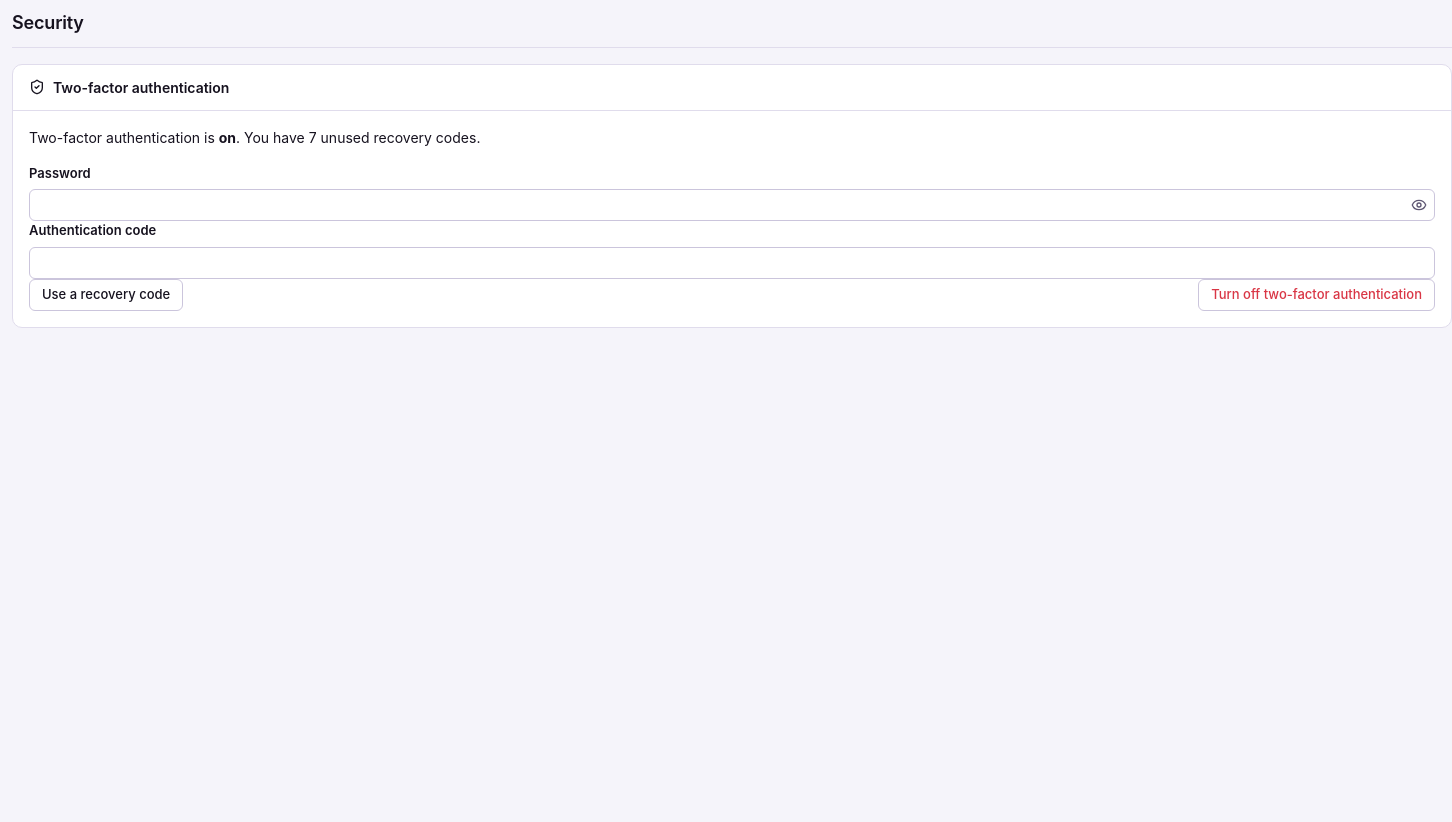
Scenario: SecurityPage › disattiva con password e codice
The image size is (1452, 822).
Expected: the text "7 unused recovery codes" is shown, [29, 128, 480, 146]
Type "la mia password" into the password field labelled "Password" at (732, 205), box [29, 189, 1435, 221]
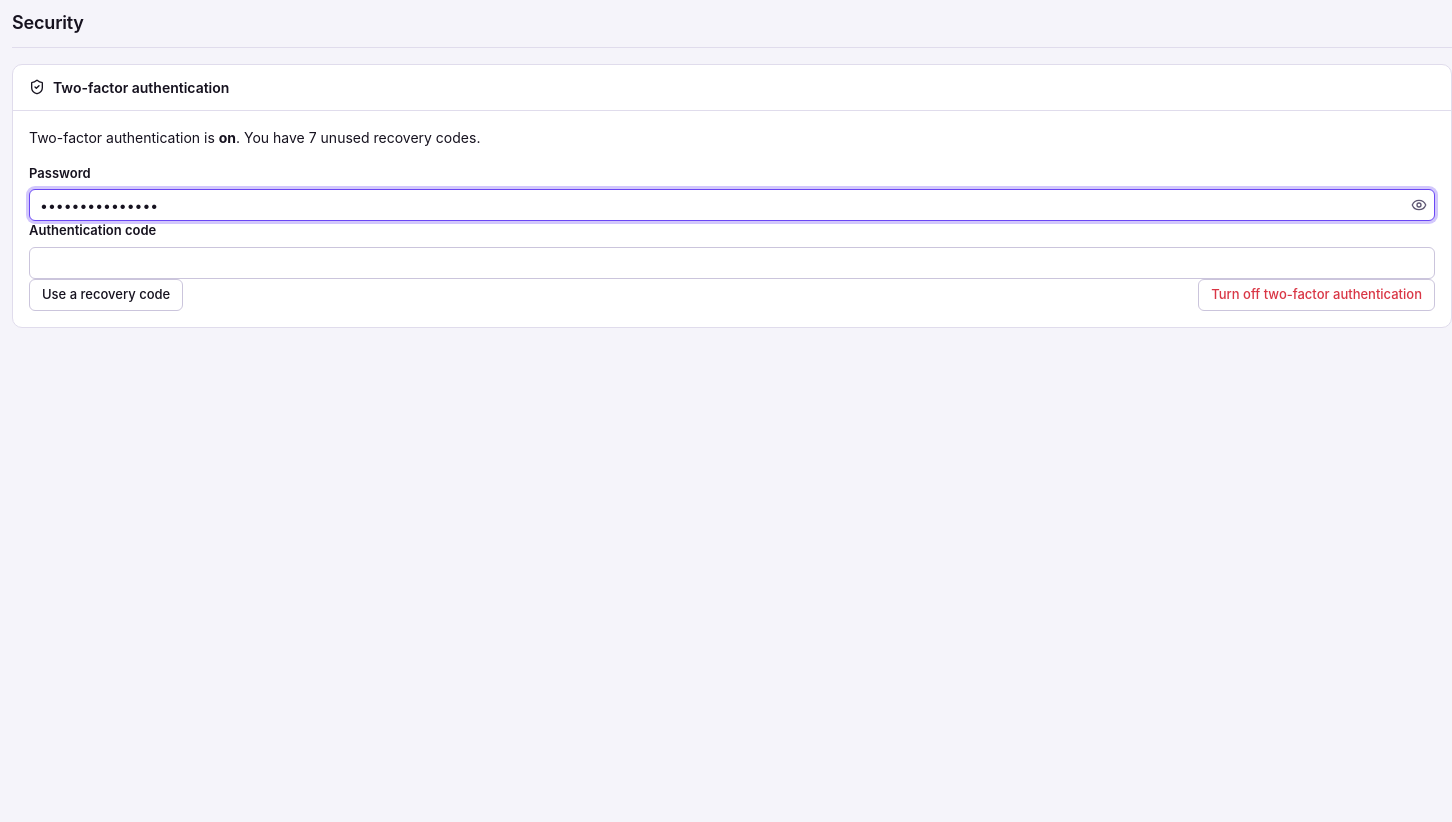
Type "654 321" into the field labelled "Authentication code" at (732, 262), box [29, 246, 1435, 278]
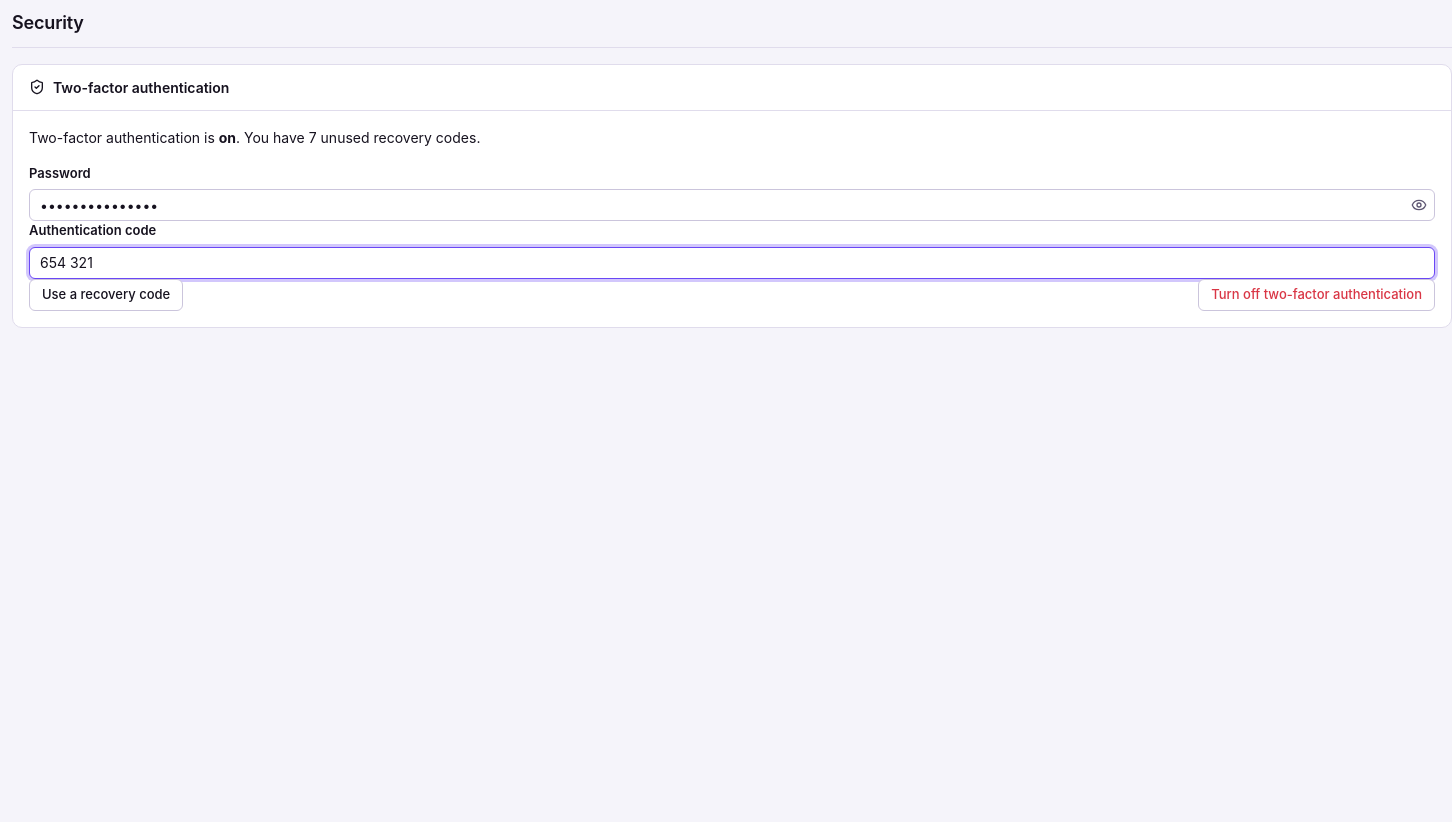
Click the button "Turn off two-factor authentication" at (1317, 294), box [1198, 278, 1435, 310]
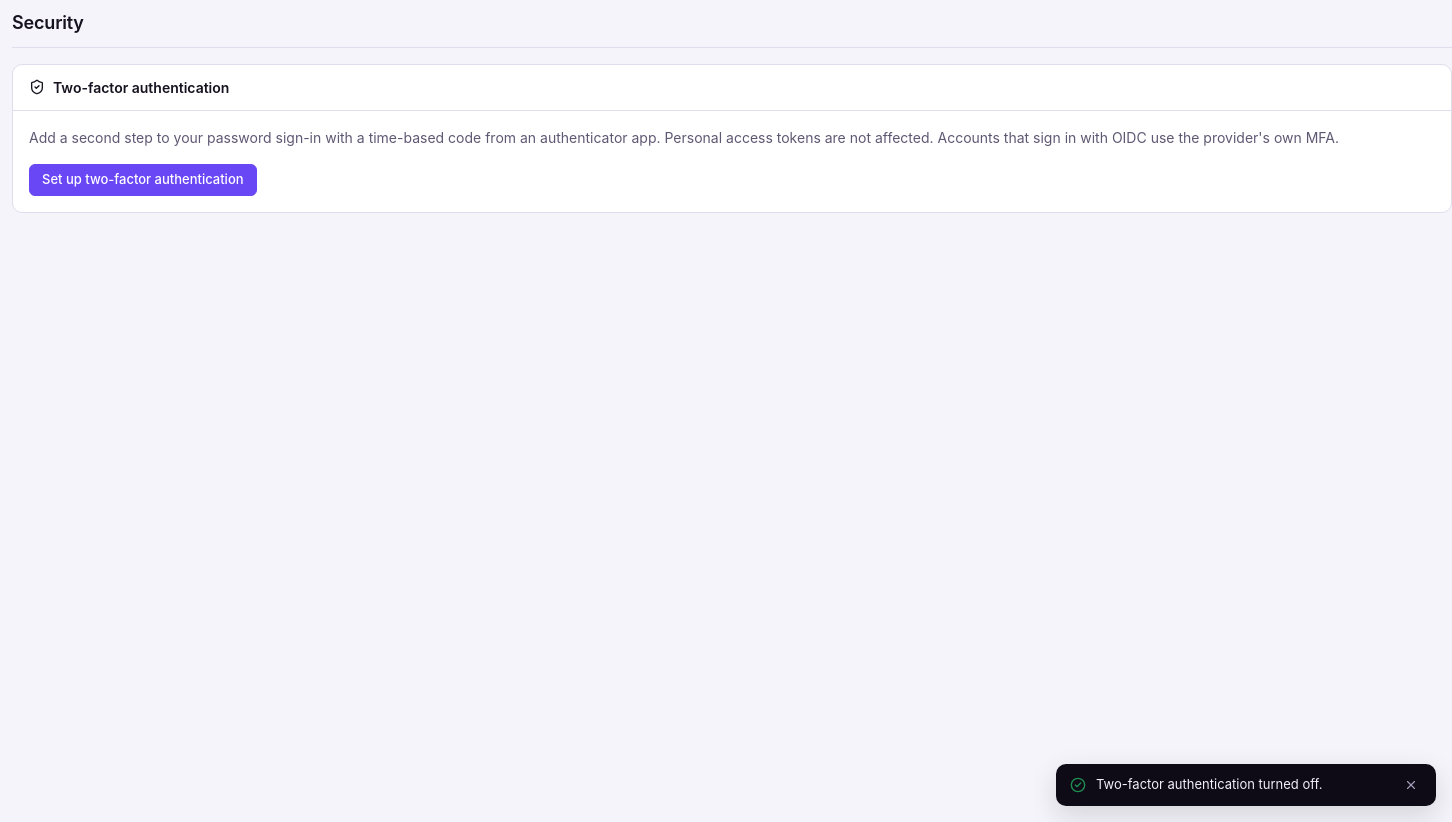
Now the button "Set up two-factor authentication" is shown, box [29, 164, 257, 196]
